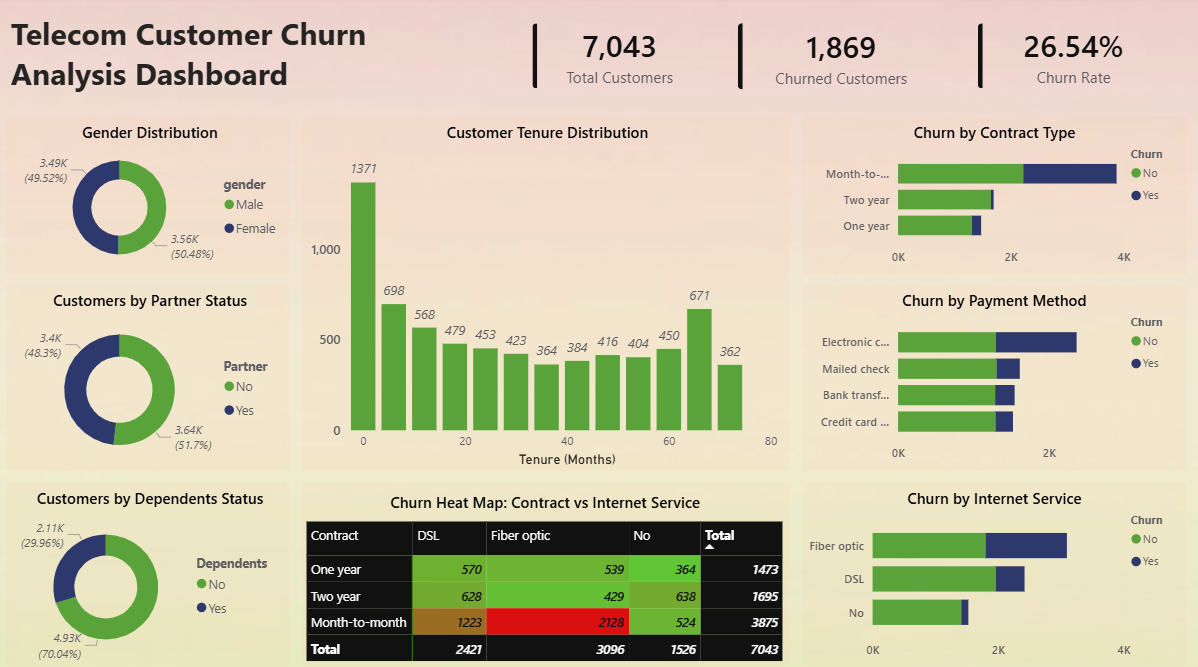

Layout of this report page (visuals, bound fields, positions):
{"tool":"powerbi","page":{"name":"Page 1","canvas":[1280,720],"ordinal":0},"visuals":[{"type":"textbox","title":"Customer Churn Analysis & Prediction Dashboard","box":[12.7,12.7,540.8,103.4],"z":0},{"type":"cardVisual","fields":{"Data":["Telco_Customer_Churn_Dataset.Total Customers"]},"box":[553.5,12.7,220,103.4],"z":1000},{"type":"cardVisual","fields":{"Data":["Telco_Customer_Churn_Dataset.Churned Customers"]},"box":[771.4,12.7,254.5,105],"z":2000},{"type":"cardVisual","fields":{"Data":["Telco_Customer_Churn_Dataset.Churn Rate"]},"box":[1026.1,13.2,238.1,103.9],"z":3000},{"type":"donutChart","title":"Gender Distribution","fields":{"Category":["Telco_Customer_Churn_Dataset.gender"],"Y":["CountNonNull(Telco_Customer_Churn_Dataset.customerID)"]},"box":[12.7,128.8,300.6,167],"z":4000},{"type":"donutChart","title":"Customers by Partner Status","fields":{"Category":["Telco_Customer_Churn_Dataset.Partner"],"Y":["CountNonNull(Telco_Customer_Churn_Dataset.customerID)"]},"box":[12.7,307,300.6,197.2],"z":5000},{"type":"donutChart","title":"Customers by Dependents Status","fields":{"Category":["Telco_Customer_Churn_Dataset.Dependents"],"Y":["CountNonNull(Telco_Customer_Churn_Dataset.customerID)"]},"box":[12.7,516.9,300.6,195.6],"z":6000},{"type":"clusteredColumnChart","title":"Customer Tenure Distribution","fields":{"Category":["Telco_Customer_Churn_Dataset.tenure (bins)"],"Y":["CountNonNull(Telco_Customer_Churn_Dataset.customerID)"]},"box":[326.1,128.8,516.9,375.4],"z":7000},{"type":"barChart","title":"Churn by Contract Type","fields":{"Category":["Telco_Customer_Churn_Dataset.Contract"],"Y":["CountNonNull(Telco_Customer_Churn_Dataset.customerID)"],"Series":["Telco_Customer_Churn_Dataset.Churn"]},"box":[857.3,128.8,407.2,167],"z":8000},{"type":"barChart","title":"Churn by Payment Method","fields":{"Y":["CountNonNull(Telco_Customer_Churn_Dataset.customerID)"],"Series":["Telco_Customer_Churn_Dataset.Churn"],"Category":["Telco_Customer_Churn_Dataset.PaymentMethod"]},"box":[857.3,307,407.2,197.2],"z":9000},{"type":"barChart","title":"Churn by Internet Service","fields":{"Y":["CountNonNull(Telco_Customer_Churn_Dataset.customerID)"],"Series":["Telco_Customer_Churn_Dataset.Churn"],"Category":["Telco_Customer_Churn_Dataset.InternetService"]},"box":[857.3,516.9,407.2,195.6],"z":10000},{"type":"pivotTable","title":"Churn Heat Map: Contract vs Internet Service","fields":{"Rows":["Telco_Customer_Churn_Dataset.Contract"],"Columns":["Telco_Customer_Churn_Dataset.InternetService"],"Values":["Count(Telco_Customer_Churn_Dataset.customerID)"]},"box":[326.1,516.9,516.9,195.6],"z":11000}]}

Visuals, with their boxes in screenshot pixels (x1, y1, x2, y2), scaled from the page's 1280x720 canvas onto the 1198x667 screenshot:
"Customer Churn Analysis & Prediction Dashboard" textbox: [12,12,518,108]
cardVisual - Telco_Customer_Churn_Dataset.Total Customers: [518,12,724,108]
cardVisual - Telco_Customer_Churn_Dataset.Churned Customers: [722,12,960,109]
cardVisual - Telco_Customer_Churn_Dataset.Churn Rate: [960,12,1183,108]
"Gender Distribution" donutChart: [12,119,293,274]
"Customers by Partner Status" donutChart: [12,284,293,467]
"Customers by Dependents Status" donutChart: [12,479,293,660]
"Customer Tenure Distribution" clusteredColumnChart: [305,119,789,467]
"Churn by Contract Type" barChart: [802,119,1183,274]
"Churn by Payment Method" barChart: [802,284,1183,467]
"Churn by Internet Service" barChart: [802,479,1183,660]
"Churn Heat Map: Contract vs Internet Service" pivotTable: [305,479,789,660]
